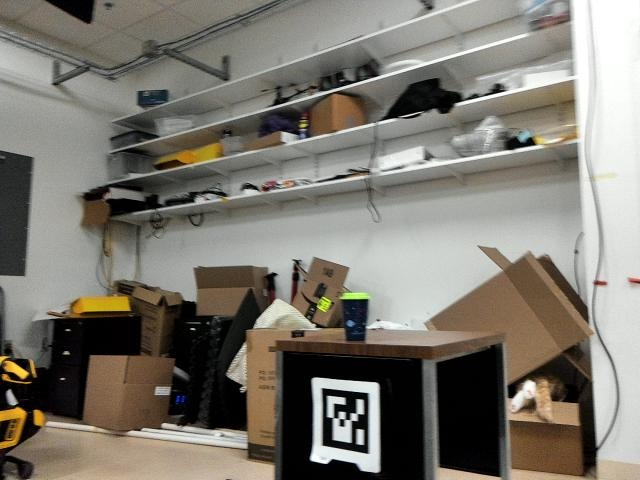useless_cup: (339, 289, 372, 339)
